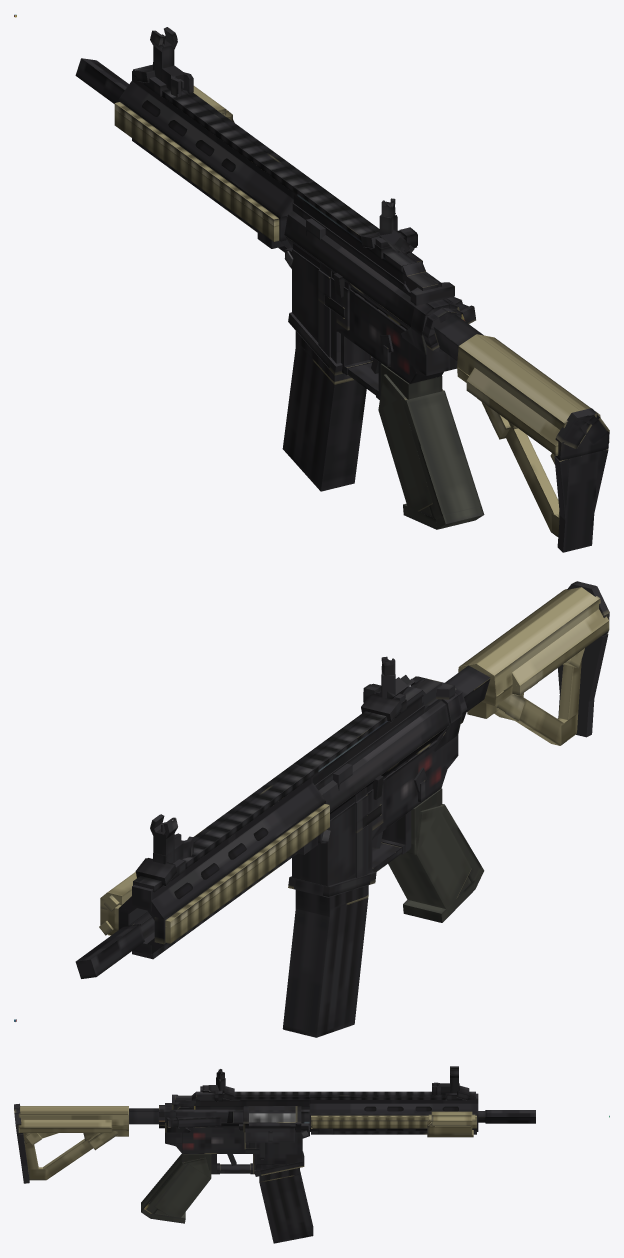
3 renders of one model, top to bottom at view 1: azimuth 30°, elevation 25°; view 2: azimuth 150°, elevation 25°; view 3: azimuth 270°, elevation 25°, orthographic. The views are drawn at different scales.
Parts seen in each view (by area): view 1: gun, magazine, bone2, frontsight, frontsightflipped, rearsightbase, action; view 2: gun, magazine, rearsightbase, frontsight, bone2, frontsightflipped; view 3: gun, magazine, bolt, bone2.
Boxes of the visible parts, x1,y1,x2,y2 form: gun: [75, 58, 609, 552]; magazine: [282, 331, 366, 491]; bone2: [288, 210, 462, 352]; frontsight: [150, 27, 177, 80]; frontsightflipped: [153, 62, 193, 97]; rearsightbase: [361, 227, 417, 258]; action: [405, 282, 454, 305]; gun: [75, 581, 609, 978]; magazine: [282, 885, 368, 1037]; rearsightbase: [361, 683, 406, 722]; frontsight: [150, 814, 177, 863]; bone2: [318, 688, 462, 794]; frontsightflipped: [153, 833, 193, 864]; gun: [14, 1085, 535, 1223]; magazine: [259, 1165, 313, 1243]; bolt: [249, 1113, 295, 1122]; bone2: [159, 1103, 309, 1128].
Size of the model in its own units: 48.44 by 203 by 641.
